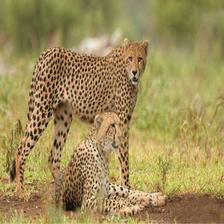Cheetah: (6, 37, 149, 200), (51, 109, 168, 218)
